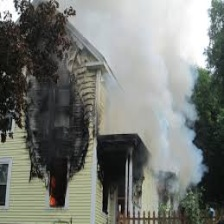smoke: (107, 14, 194, 169)
